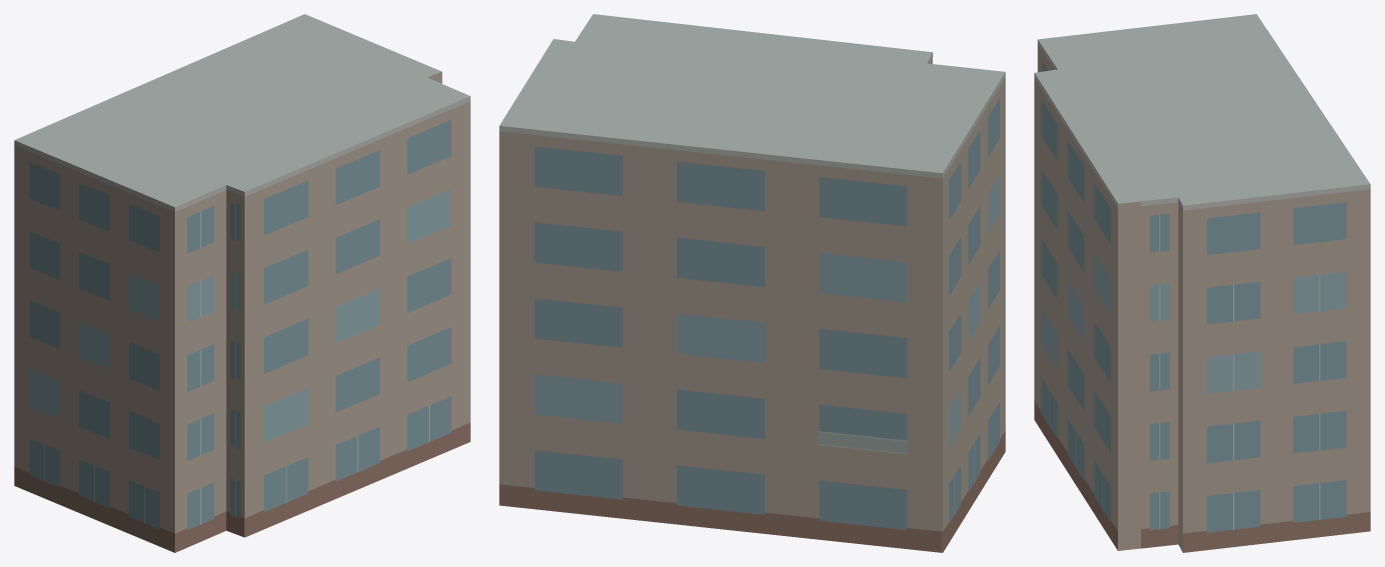
The model's file is survey-upis-32623724.glb.
3 views of the same model, side by side, from view 1: azimuth 30°, elevation 25°; view 2: azimuth 150°, elevation 25°; view 3: azimuth 270°, elevation 25° (orthographic). The views are drawn at different scales.
Visible parts, largest first — view 1: survey-upis-32623724.tmp; view 2: survey-upis-32623724.tmp; view 3: survey-upis-32623724.tmp.
Boxes of the visible parts, box(x1,y1,x2,y2) form: survey-upis-32623724.tmp: box(14, 14, 470, 552); survey-upis-32623724.tmp: box(499, 14, 1005, 552); survey-upis-32623724.tmp: box(1034, 14, 1370, 552).
Bounding box in the file's own units: 20.39 × 17.2 × 15.1.
